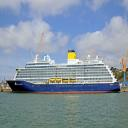cruises: (6, 49, 122, 96)
